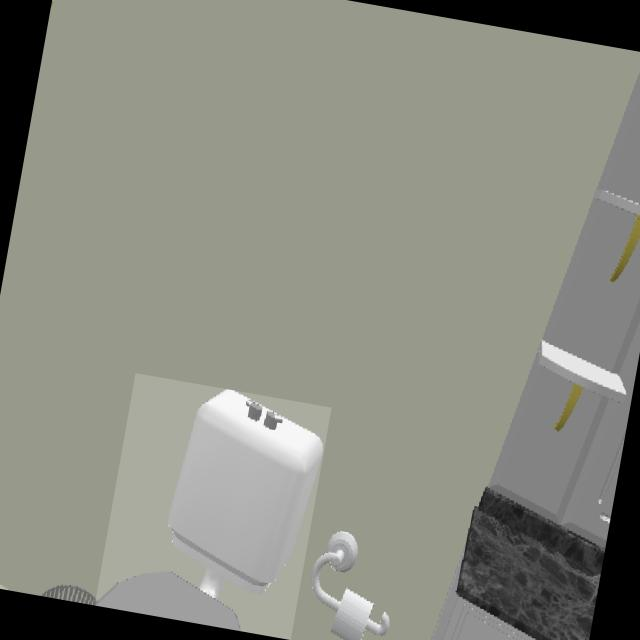toilet: (94, 389, 324, 631)
